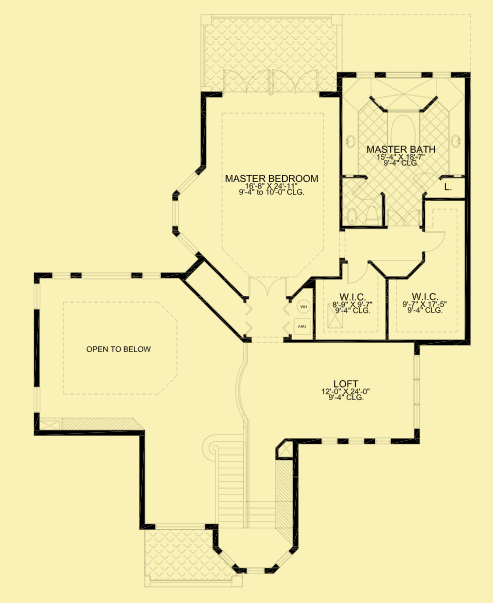master bathroom contains tub space and shower space and also has sink: (333, 71, 468, 233)
stairs to the other floors: (202, 419, 305, 578)
these are large walk in closets: (310, 249, 476, 347)
this is a master bedroom: (164, 63, 332, 303)
